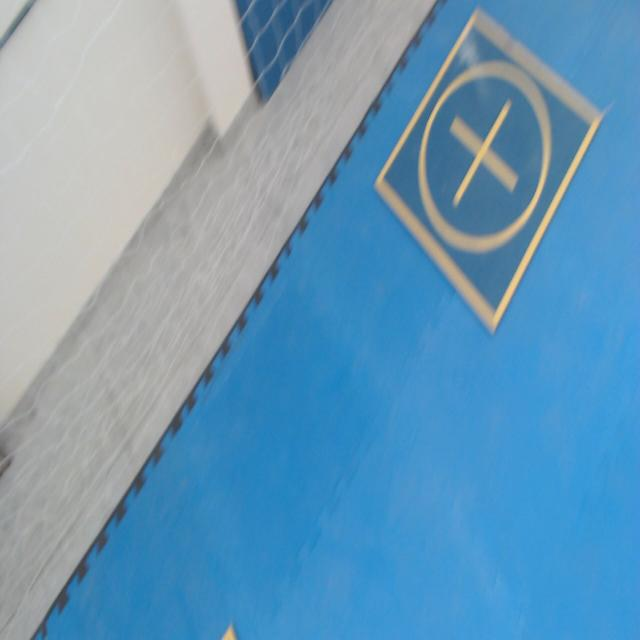base_pouso: (374, 7, 606, 340)
